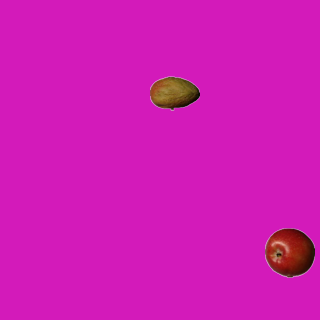Apple Braeburn: (264, 227, 314, 277)
Papaya: (149, 68, 199, 118)
